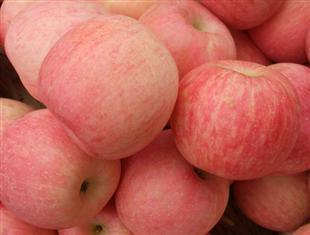apple: (37, 12, 180, 160), (1, 103, 123, 228), (175, 61, 299, 182), (118, 132, 238, 232), (126, 1, 242, 80)
